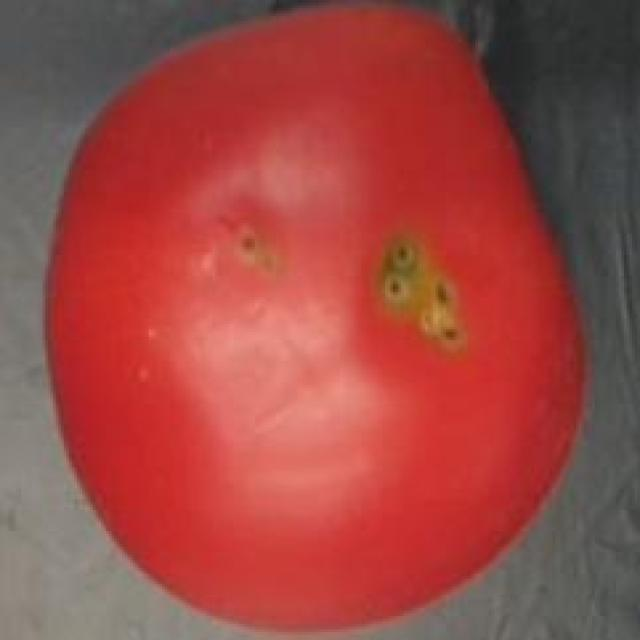overripe tomato: (48, 0, 592, 640)
